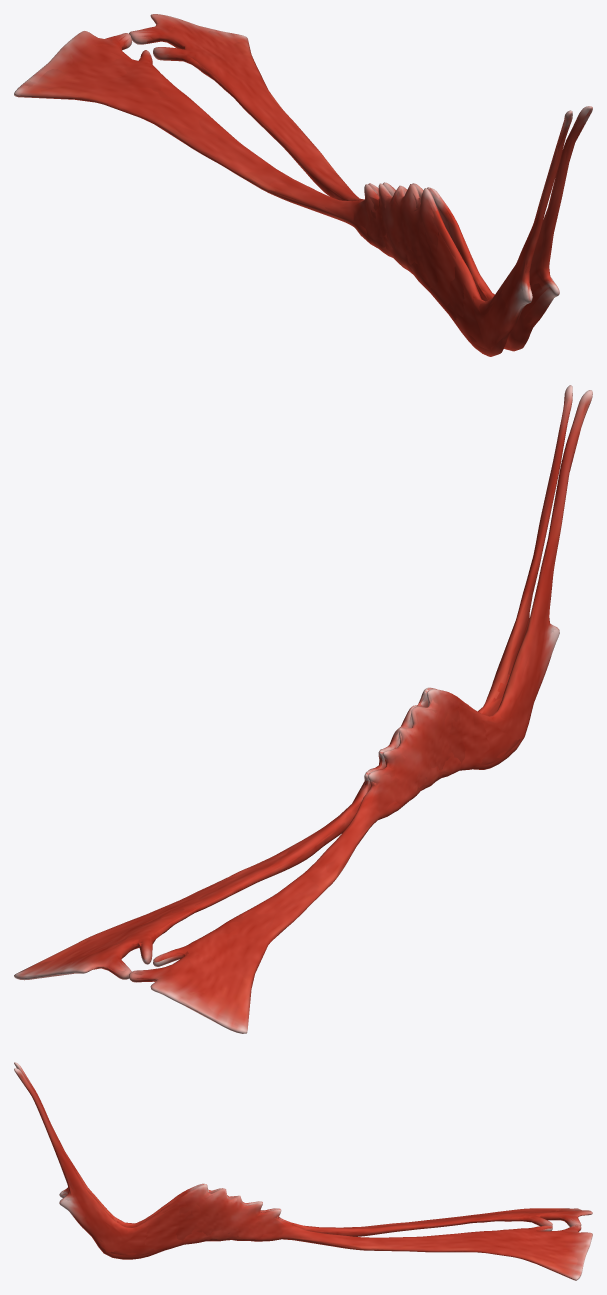
File: Longissimus.fbx
3 renders of one model, top to bottom at view 1: azimuth 30°, elevation 25°; view 2: azimuth 150°, elevation 25°; view 3: azimuth 270°, elevation 25°, orthographic. The views are drawn at different scales.
Parts seen in each view (by area): view 1: Longissimus, Longissimus low; view 2: Longissimus, Longissimus low; view 3: Longissimus, Longissimus low.
Part boxes in pixels (box(x1,y1,x2,y2)): Longissimus: box(14, 14, 592, 356); Longissimus low: box(14, 18, 590, 351); Longissimus: box(14, 385, 592, 1033); Longissimus low: box(17, 394, 587, 1033); Longissimus: box(14, 1062, 592, 1280); Longissimus low: box(14, 1063, 588, 1280).
Bounding box in the file's own units: 33.26 × 41.85 × 115.
Materials: 1 (1 with a texture image).
